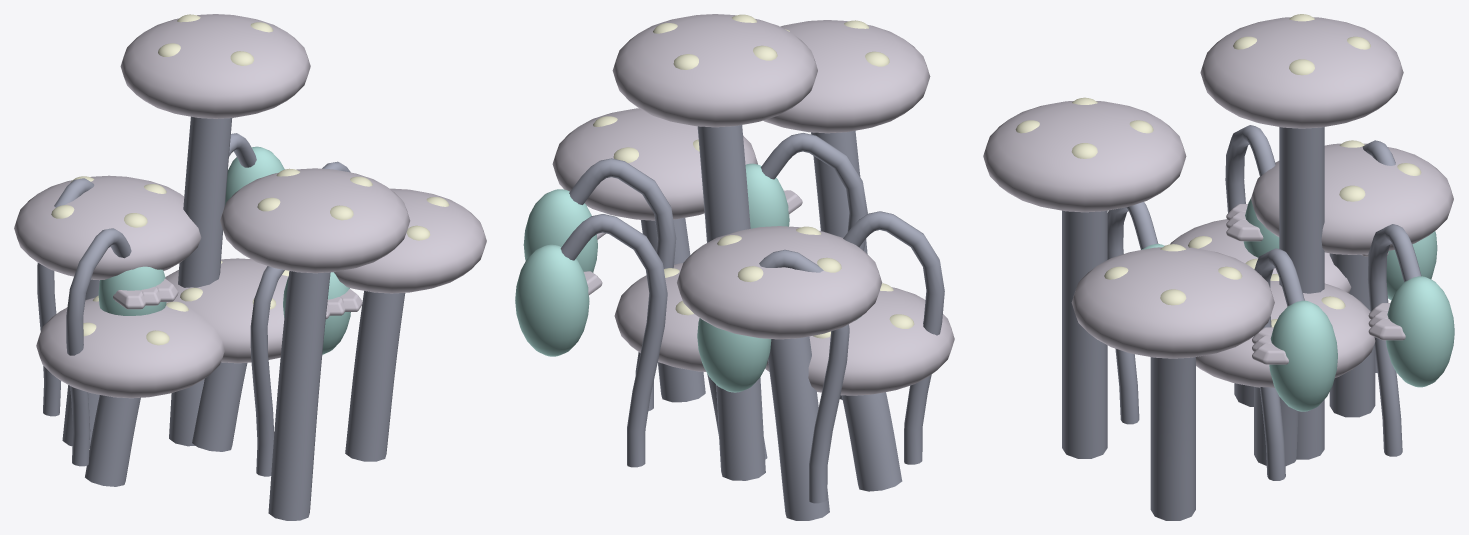
Rendered from bio_spore_fungus_03_near.glb.
3 renders of one model, left to right at view 1: azimuth 30°, elevation 25°; view 2: azimuth 150°, elevation 25°; view 3: azimuth 270°, elevation 25°, orthographic. The views are drawn at different scales.
Parts seen in each view (by area): view 1: Thick umbrella cap.002, Thick umbrella cap.003, Thick umbrella cap.004, Thick umbrella cap.001, Curved stipe.002, Thick umbrella cap.005, Curved stipe.003, Curved stipe.005, Thick umbrella cap, Arched fruit stem.004, Arched fruit stem.002, Curved stipe.004 (+13 smaller); view 2: Thick umbrella cap.003, Thick umbrella cap.001, Thick umbrella cap.002, Thick umbrella cap.005, Curved stipe.003, Thick umbrella cap.004, Curved stipe.001, Pendant spore capsule.003, Arched fruit stem.003, Arched fruit stem.004, Thick umbrella cap, Curved stipe.004 (+11 smaller); view 3: Thick umbrella cap.002, Thick umbrella cap.005, Thick umbrella cap.003, Thick umbrella cap.001, Curved stipe.002, Curved stipe.003, Curved stipe.005, Pendant spore capsule.003, Pendant spore capsule, Thick umbrella cap, Arched fruit stem.003, Curved stipe.001 (+15 smaller).
Part boxes in pixels (<box>): Thick umbrella cap.002: <box>220,168,410,273</box>; Thick umbrella cap.003: <box>120,14,310,118</box>; Thick umbrella cap.004: <box>36,297,224,398</box>; Thick umbrella cap.001: <box>14,175,201,280</box>; Curved stipe.002: <box>268,271,330,520</box>; Thick umbrella cap.005: <box>334,188,486,293</box>; Curved stipe.003: <box>169,116,232,446</box>; Curved stipe.005: <box>345,291,405,461</box>; Thick umbrella cap: <box>165,258,288,363</box>; Arched fruit stem.004: <box>66,228,131,466</box>; Arched fruit stem.002: <box>250,266,284,476</box>; Curved stipe.004: <box>85,395,140,486</box>; Thick umbrella cap.003: <box>612,14,817,127</box>; Thick umbrella cap.001: <box>677,226,882,339</box>; Thick umbrella cap.002: <box>763,20,930,133</box>; Thick umbrella cap.005: <box>552,108,757,220</box>; Curved stipe.003: <box>697,125,765,480</box>; Thick umbrella cap.004: <box>765,287,954,395</box>; Curved stipe.001: <box>768,336,829,520</box>; Pendant spore capsule.003: <box>515,244,589,356</box>; Arched fruit stem.003: <box>560,214,667,467</box>; Arched fruit stem.004: <box>843,211,944,464</box>; Thick umbrella cap: <box>614,263,706,371</box>; Curved stipe.004: <box>841,392,902,491</box>; Thick umbrella cap.002: <box>983,101,1186,212</box>; Thick umbrella cap.005: <box>1071,247,1274,358</box>; Thick umbrella cap.003: <box>1200,17,1403,128</box>; Thick umbrella cap.001: <box>1251,143,1453,254</box>; Curved stipe.002: <box>1062,210,1107,458</box>; Curved stipe.003: <box>1279,127,1324,459</box>; Curved stipe.005: <box>1150,357,1195,520</box>; Pendant spore capsule.003: <box>1386,276,1454,387</box>; Pendant spore capsule: <box>1269,300,1337,411</box>; Thick umbrella cap: <box>1196,280,1375,387</box>; Arched fruit stem.003: <box>1367,224,1421,456</box>; Curved stipe.001: <box>1329,253,1375,417</box>.
Size of the model in its own units: 1.78 by 1.78 by 1.76.
